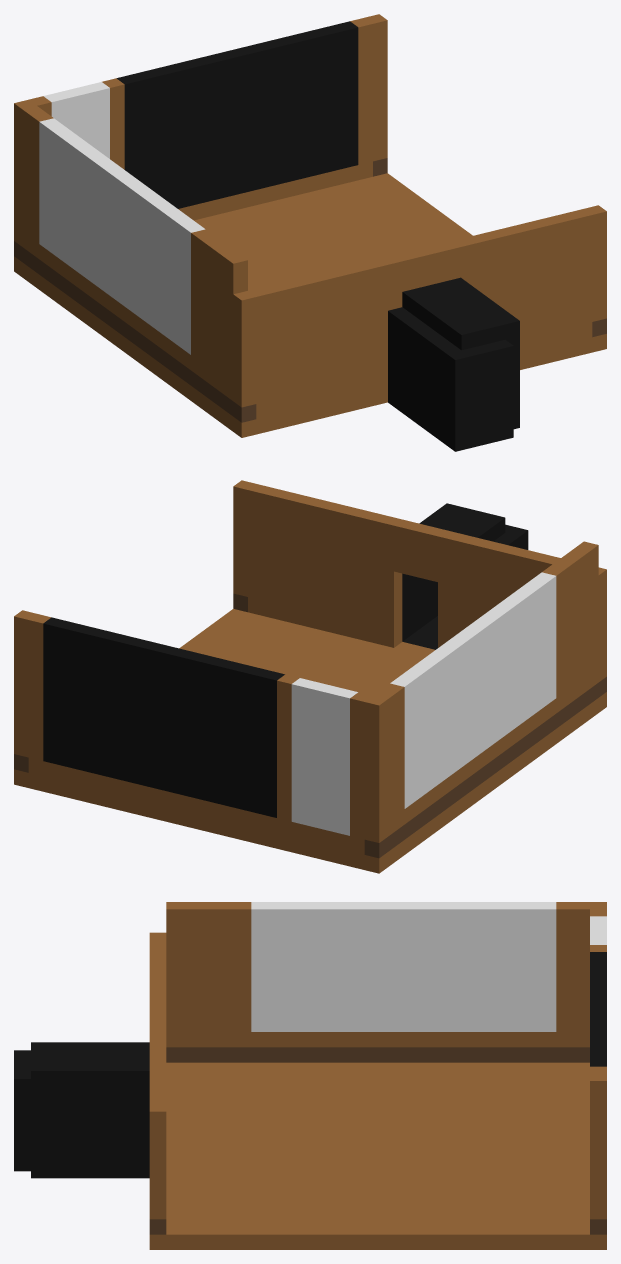
File: TheoryRoomVeryBad.obj
The picture shows the model from 3 angles, top to bottom: view 1: azimuth 30°, elevation 25°; view 2: azimuth 150°, elevation 25°; view 3: azimuth 270°, elevation 25°; orthographic projection.
Size of the model in its own units: 2.5 by 1.1 by 3.5.
Materials: 1 (1 with a texture image).
